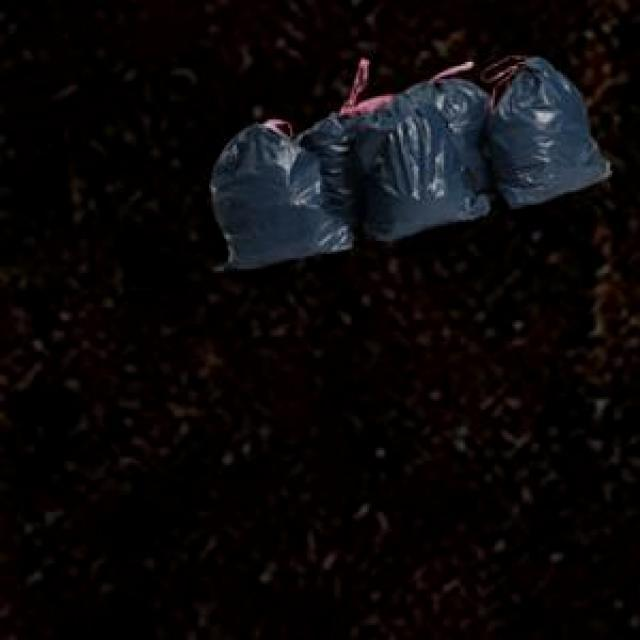Trashbag: (348, 75, 495, 250), (205, 108, 357, 272), (483, 44, 613, 215)
